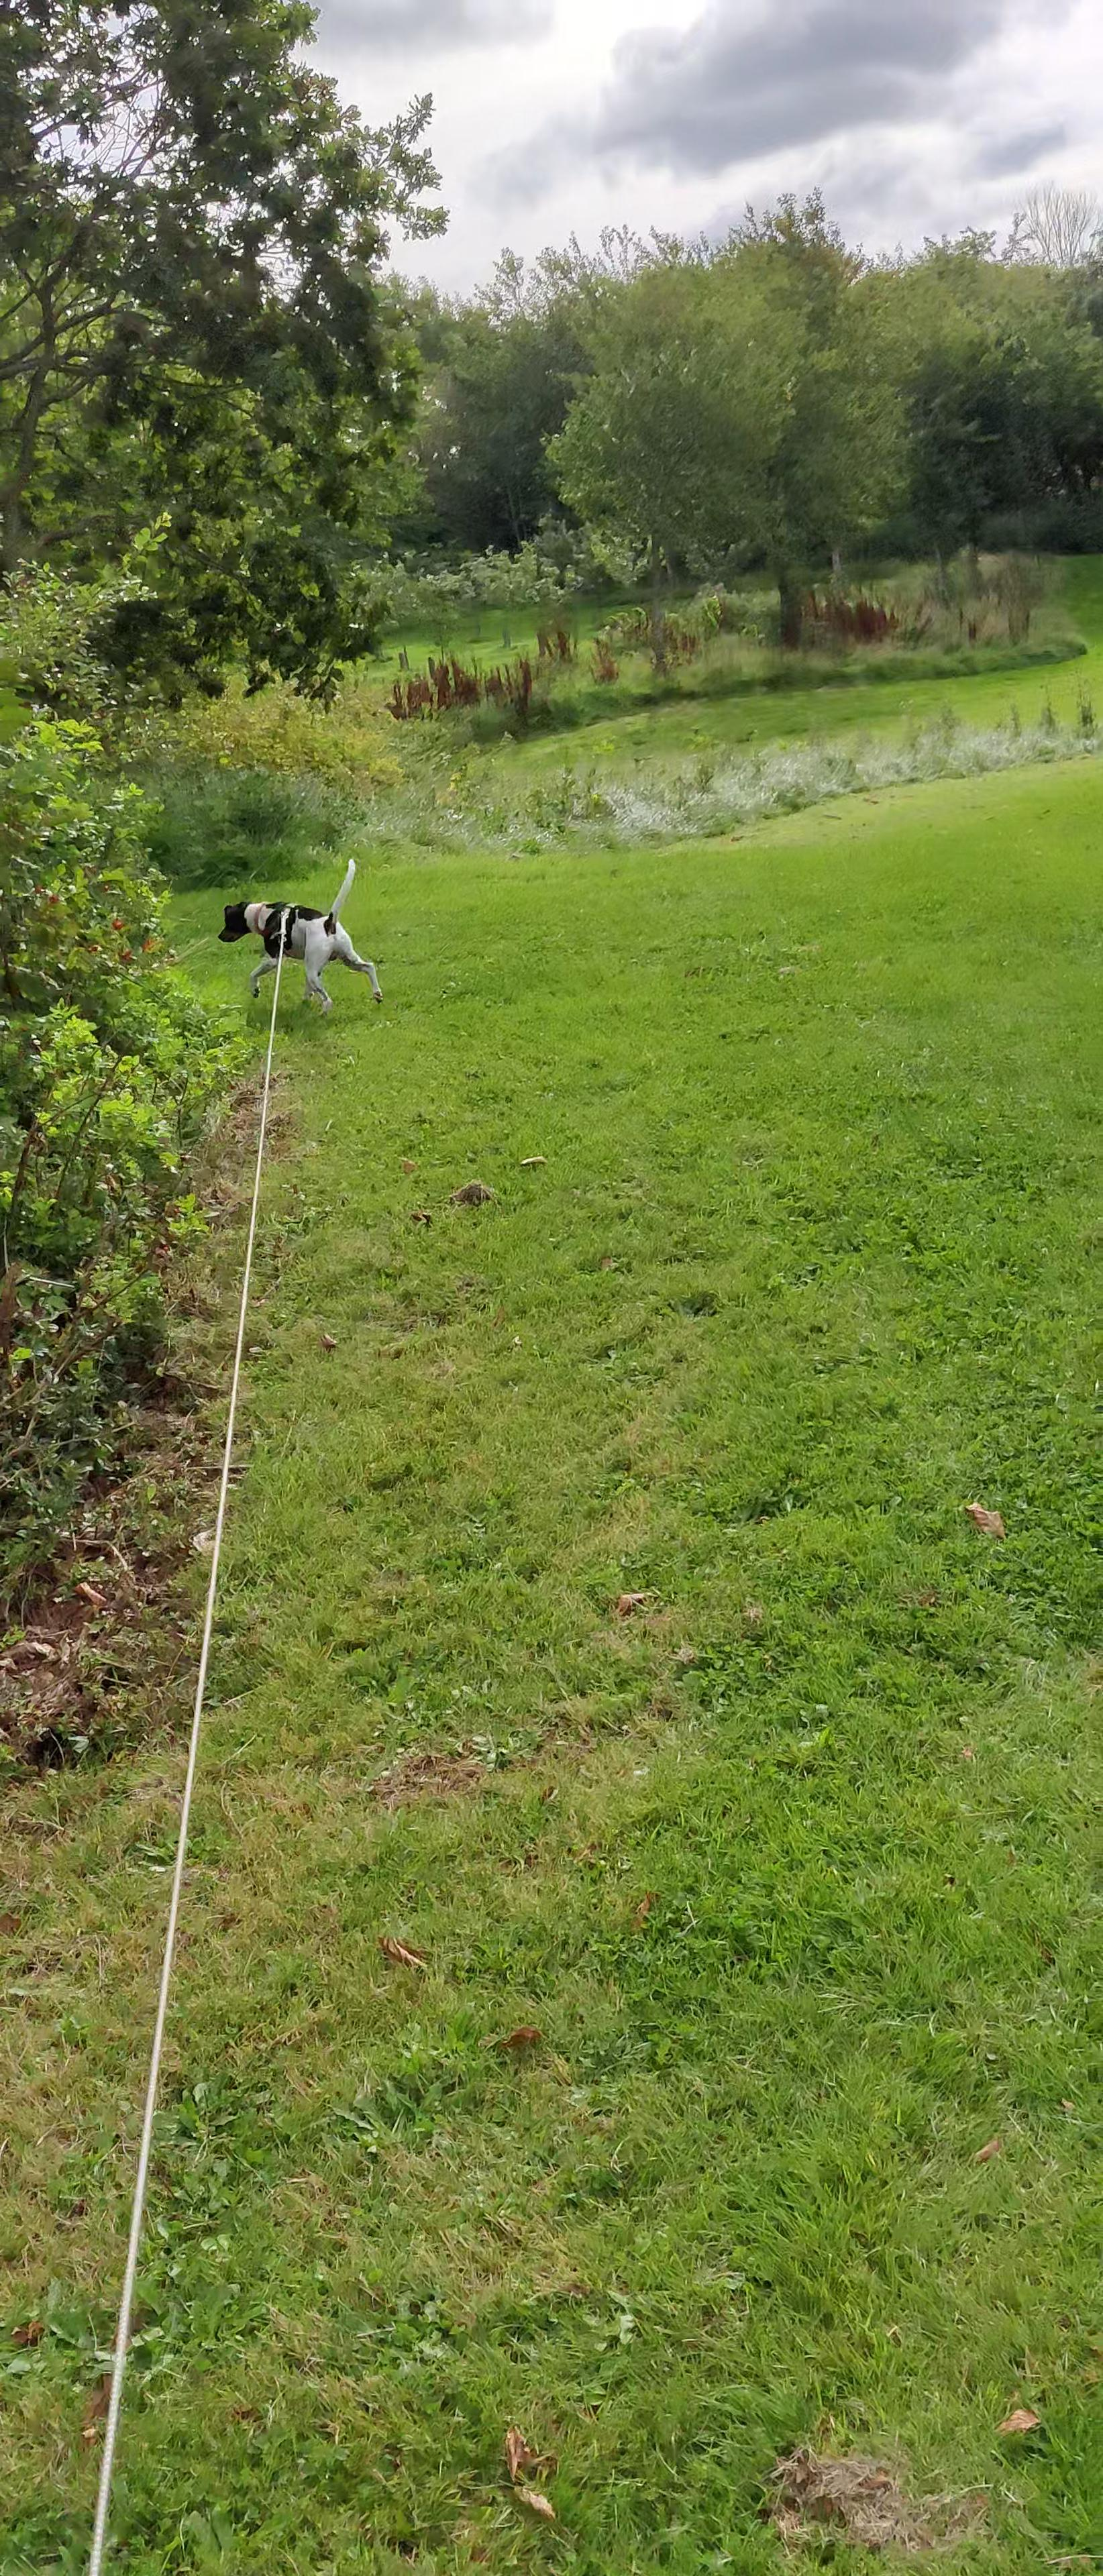Dog: (205, 853, 395, 1023)
